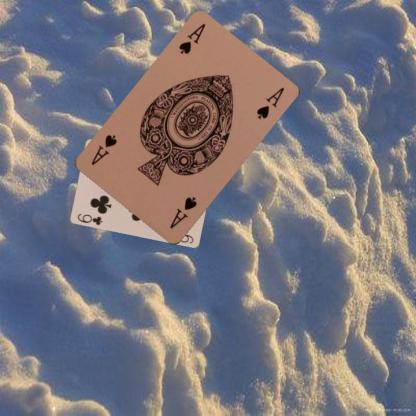6c: (75, 211, 104, 226)
As: (166, 194, 198, 231), (176, 21, 207, 56)
